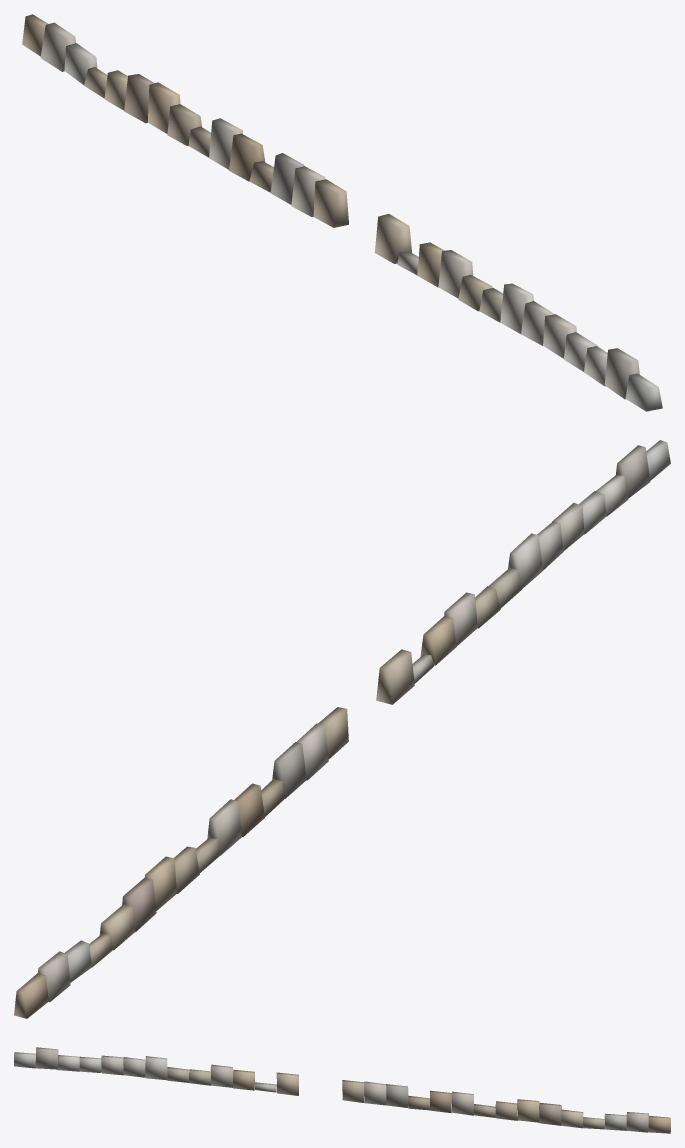
Rendered from farm_9_-2_far.glb.
3 views of the same model, one above another, from view 1: azimuth 30°, elevation 25°; view 2: azimuth 150°, elevation 25°; view 3: azimuth 270°, elevation 25° (orthographic). The views are drawn at different scales.
Visible parts, largest first — view 1: geometry_0; view 2: geometry_0; view 3: geometry_0.
Part boxes in pixels (x1,y1,x2,y2): geometry_0: (22,14,662,411); geometry_0: (14,440,670,1018); geometry_0: (14,1047,670,1133).
Size of the model in its own units: 1.91 by 6.02 by 46.73.
